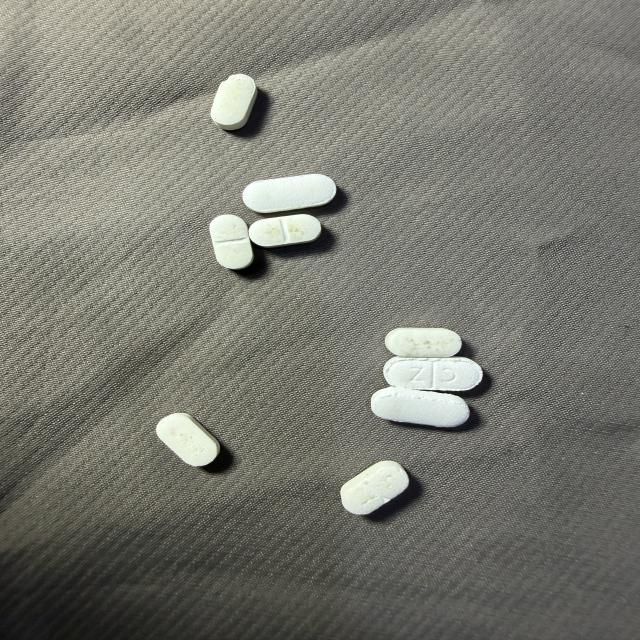pill: (371, 387, 469, 427), (243, 174, 336, 213), (341, 461, 408, 514), (157, 413, 220, 466), (384, 357, 482, 391), (211, 74, 257, 130), (249, 214, 321, 247), (210, 215, 253, 269), (385, 328, 461, 357)
